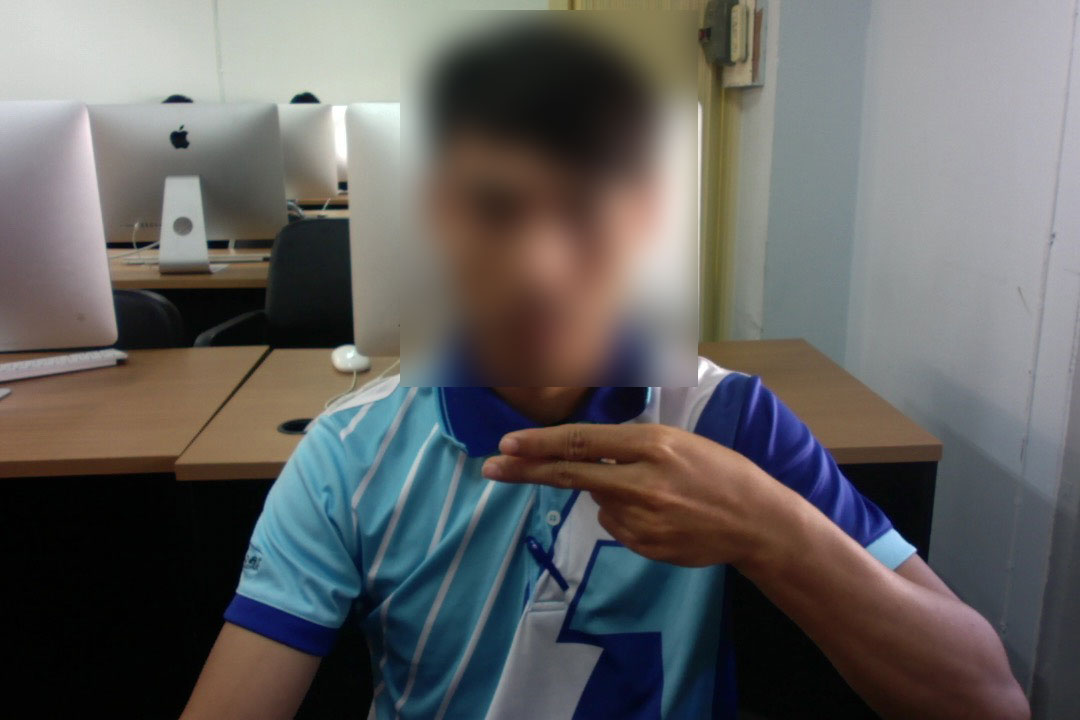hor: (471, 412, 766, 579)
